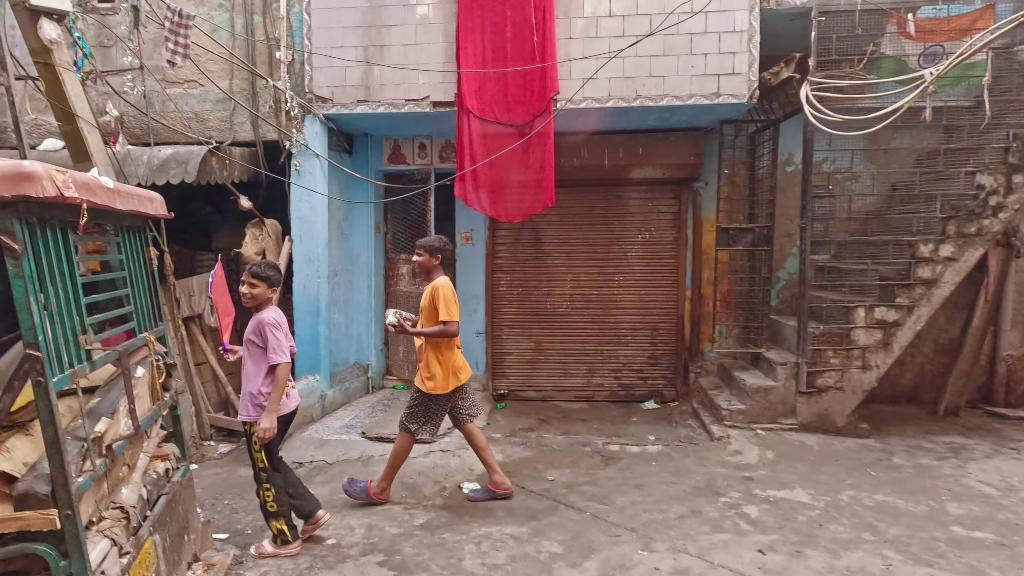garbage: (635, 389, 665, 415), (455, 476, 481, 493), (495, 400, 511, 412)
